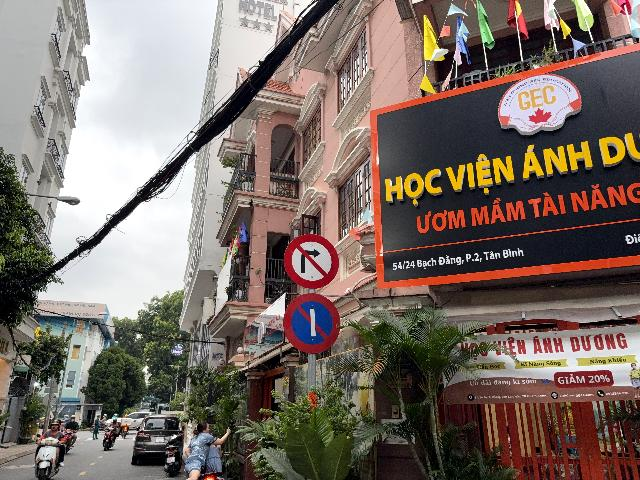cam-do-xe-ngay-le: (283, 292, 341, 354)
cam-re-phai: (283, 234, 339, 289)
